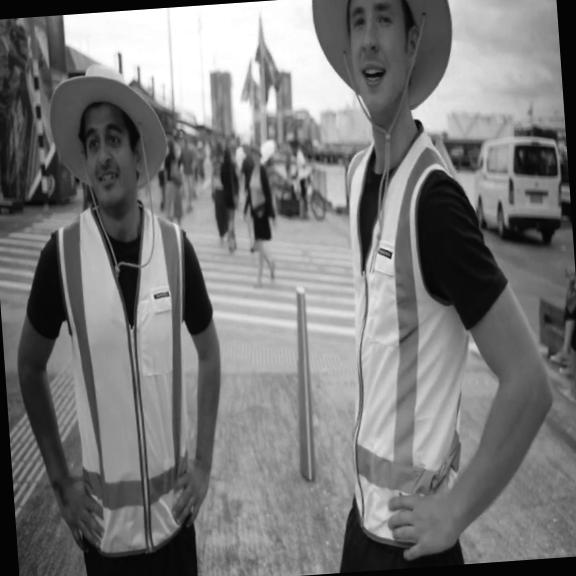safety_vest: (326, 114, 480, 552), (52, 196, 208, 558)
